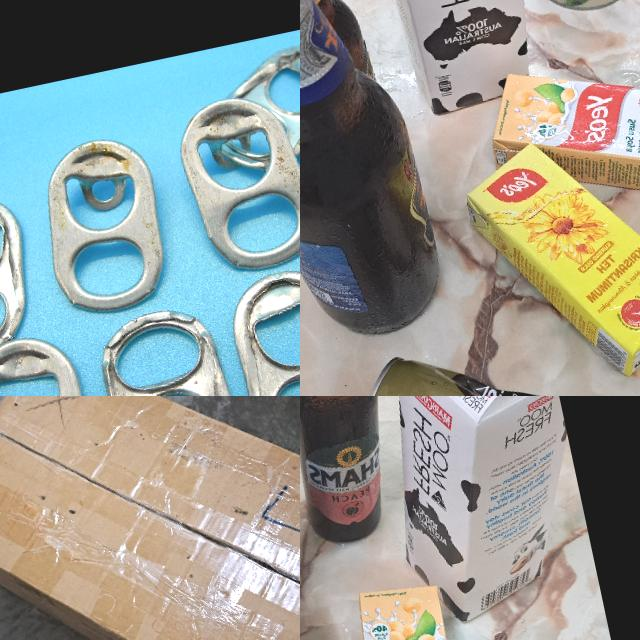aba de lata: (29, 130, 180, 322), (170, 85, 300, 281), (89, 299, 252, 396), (194, 34, 300, 172), (219, 255, 300, 396), (0, 189, 45, 366), (0, 326, 107, 396)
caixinha: (353, 396, 601, 630), (454, 112, 640, 396), (477, 34, 640, 243), (346, 0, 565, 123), (335, 577, 479, 640)
garrafa de vidro: (300, 0, 452, 354), (300, 396, 409, 546), (300, 0, 380, 108)
lata: (344, 323, 579, 396)
papelão: (0, 396, 300, 640)
